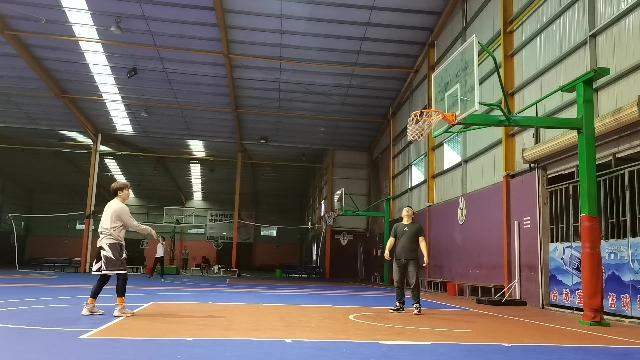basket: (408, 108, 444, 142), (324, 209, 336, 224)
goal: (407, 124, 423, 139)
